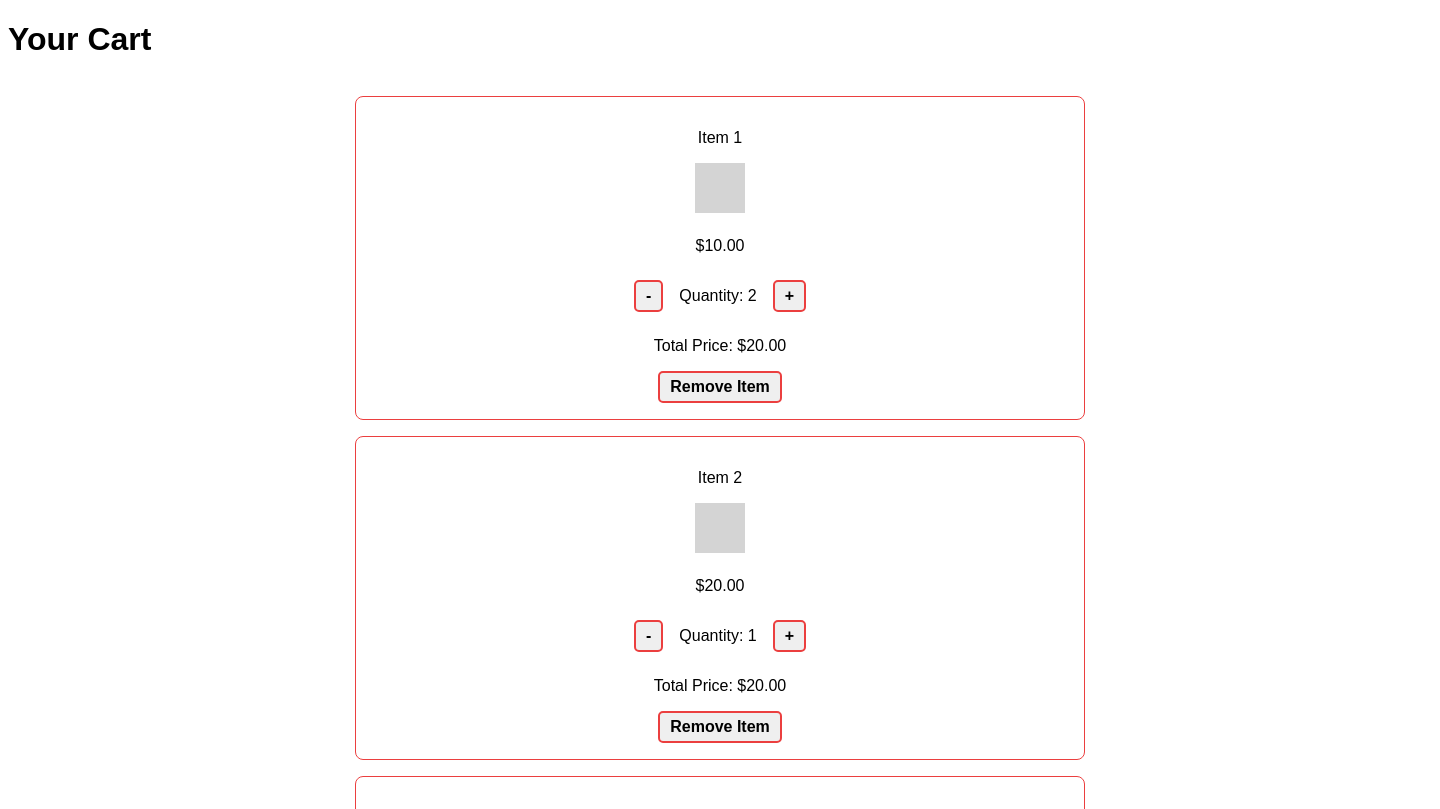
Cart › decrements an item quantity and updates the total amount
The width and height of the screenshot is (1440, 809).
What coordinates should you click on to do the following:
click the button "-" below "10.00"
I would click on:
 (649, 296)
Its box is top-left (634, 280), bottom-right (663, 312).
(page scrolled)
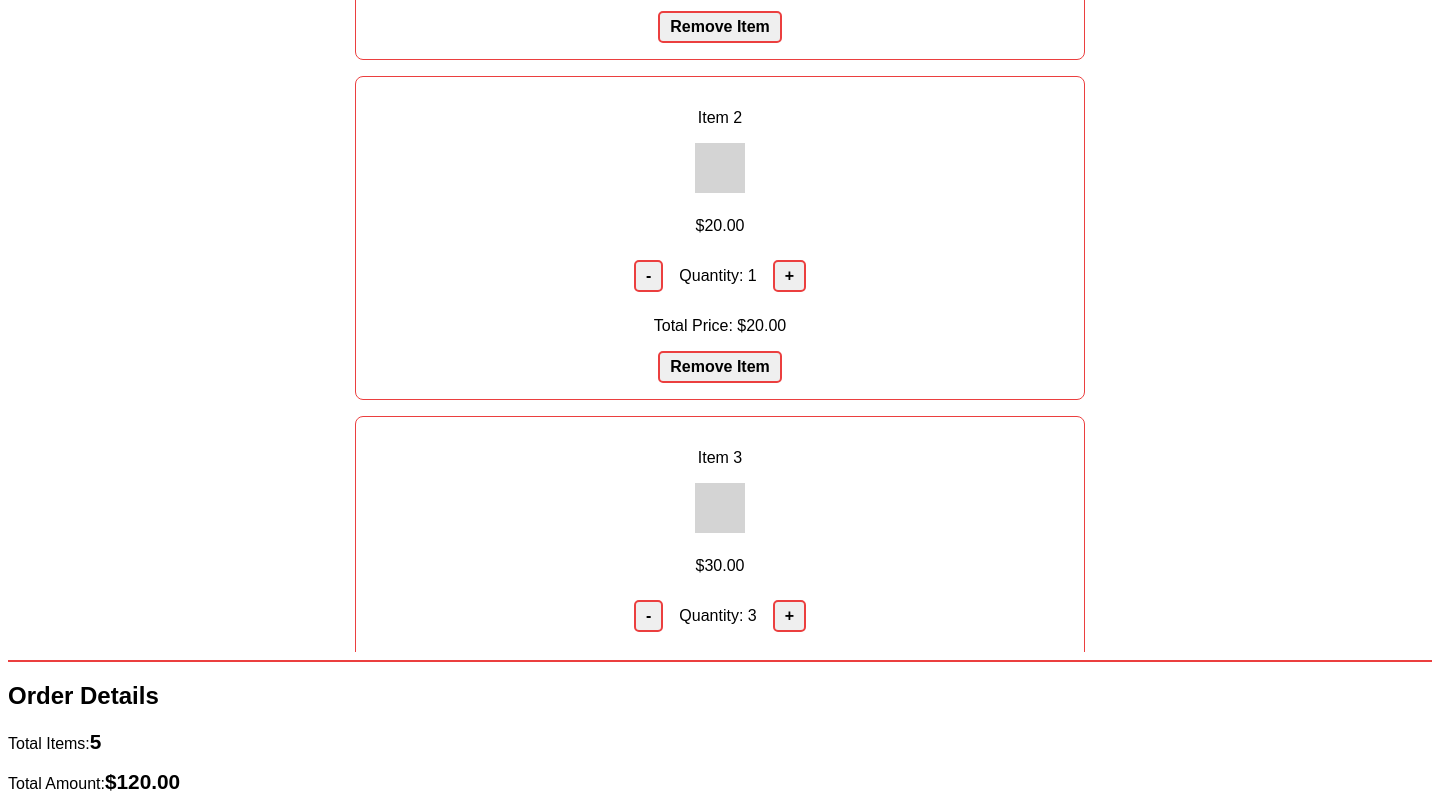
Now the text "$120.00" is shown, box top-left (105, 770), bottom-right (180, 793)
